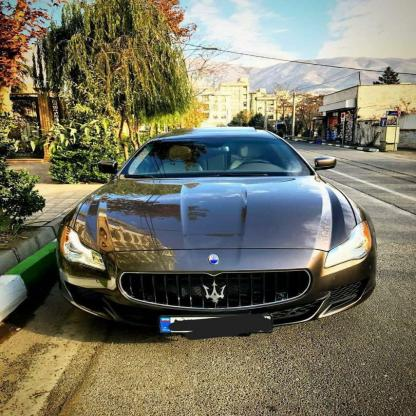Car: (53, 119, 372, 342)
